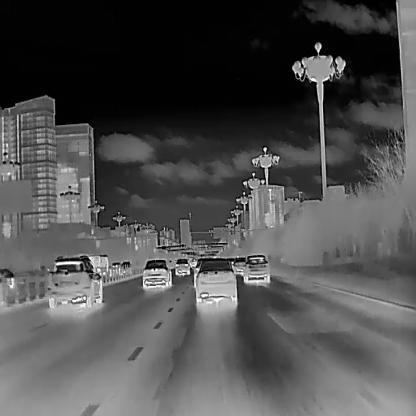car: (47, 255, 101, 310), (195, 260, 237, 304), (143, 259, 173, 288), (243, 254, 269, 283), (192, 259, 208, 285), (88, 254, 107, 275), (176, 258, 191, 275), (233, 255, 246, 273), (120, 260, 131, 275), (111, 262, 121, 275)
